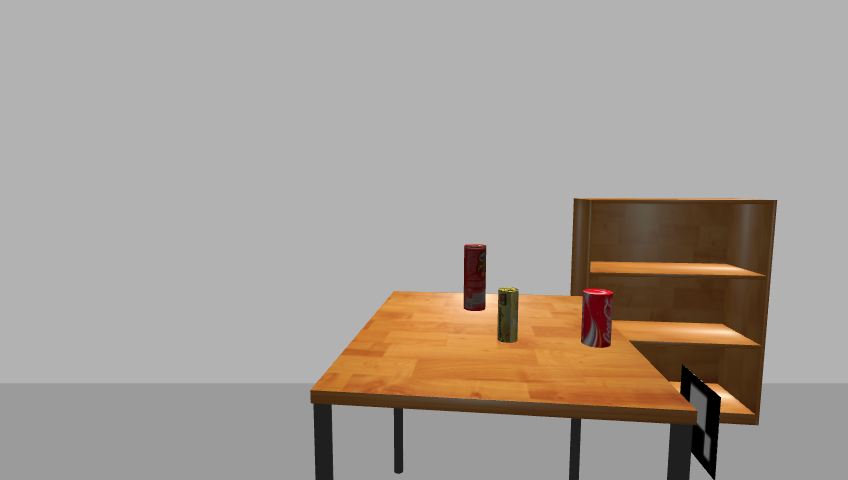aruco marker: (677, 365, 724, 479)
biscuits pack: (497, 287, 520, 345)
bookshelf: (567, 194, 783, 432)
coke can: (580, 289, 613, 348)
dinner table: (305, 289, 700, 480)
pringles can: (461, 243, 488, 313)
